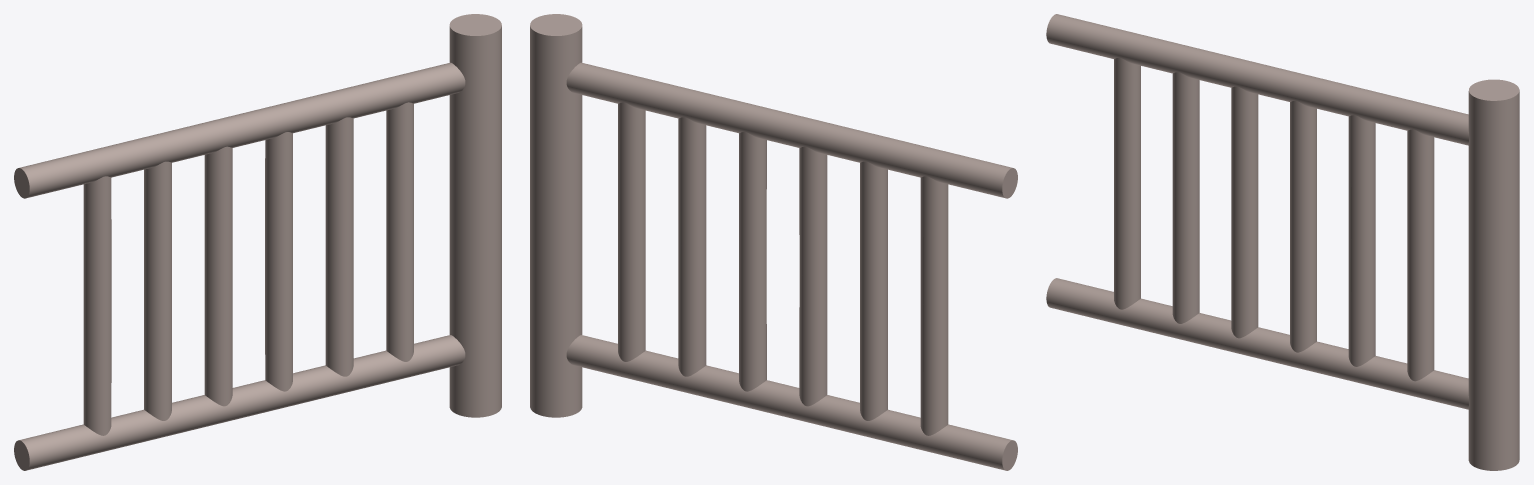
File: 1029_fence_connect.glb
3 renders of one model, left to right at view 1: azimuth 30°, elevation 25°; view 2: azimuth 150°, elevation 25°; view 3: azimuth 330°, elevation 25°, orthographic. The views are drawn at different scales.
Parts seen in each view (by area): view 1: Body; view 2: Body; view 3: Body.
Boxes of the visible parts, box(x1,y1,x2,y2) form: Body: box(14, 14, 501, 470); Body: box(530, 14, 1017, 470); Body: box(1046, 14, 1519, 470).
Size of the model in its own units: 1.58 by 1.21 by 0.15.
